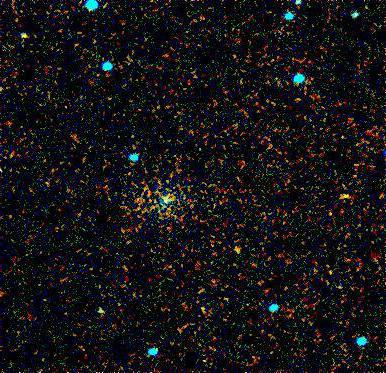star: (217, 238, 247, 268)
